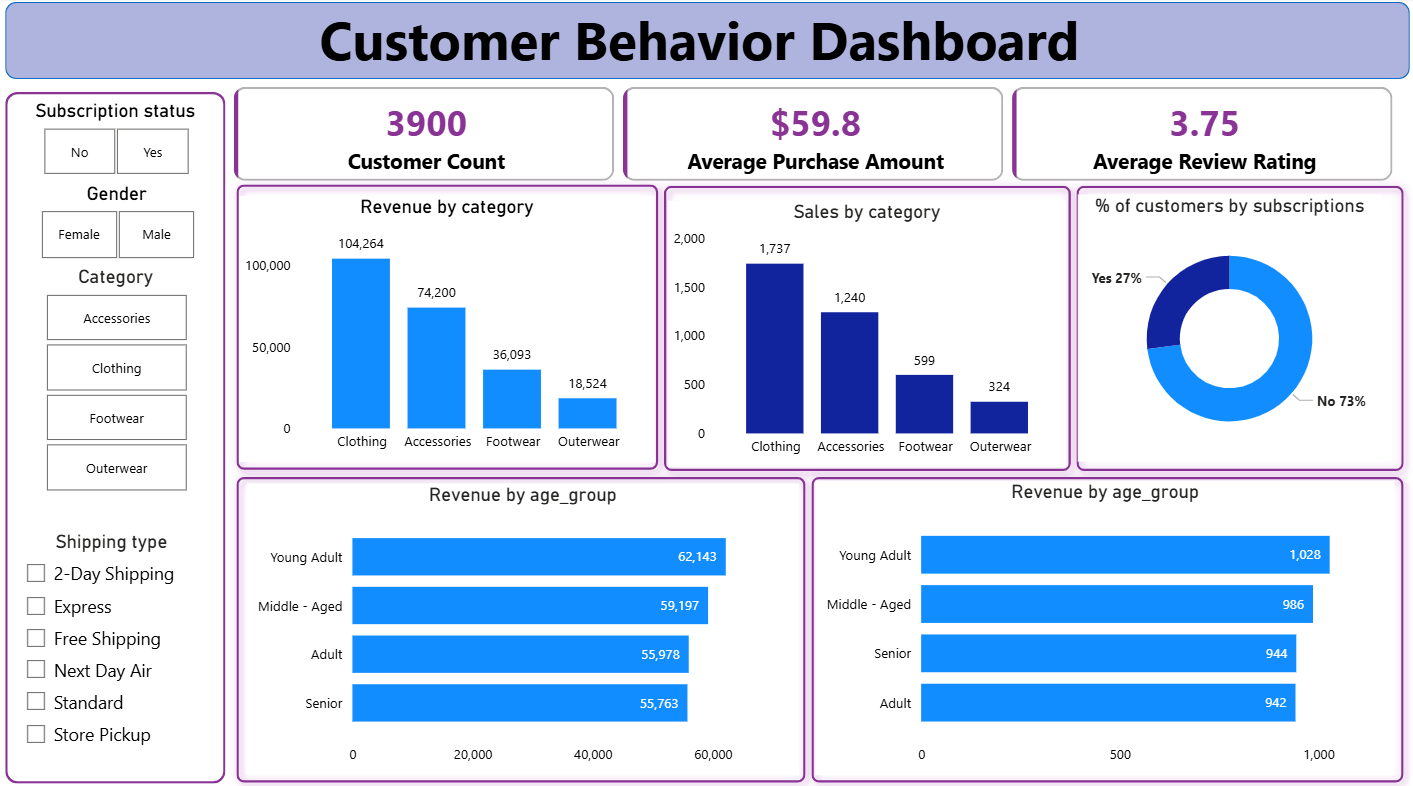

Layout of this report page (visuals, bound fields, positions):
{"tool":"powerbi","page":{"name":"Customer_Behavior_Dashboard","canvas":[1280,720],"ordinal":0},"visuals":[{"type":"cardVisual","fields":{"Data":["public customer.Customer Count","public customer.Average Purchase Amount","public customer.Average Review Rating"]},"box":[195.5,64.7,1084.8,119.7],"z":0},{"type":"shape","box":[6.1,4.9,1270.5,69.6],"z":1},{"type":"textbox","box":[6.1,0,1255.8,74.5],"z":2},{"type":"shape","box":[205.2,161,399.5,276.1],"z":3},{"type":"shape","box":[965.1,161.6,314,276.1],"z":5},{"type":"shape","box":[6.1,85.5,199.1,625.5],"z":6},{"type":"slicer","title":"Subscription status","fields":{"Values":["public customer.subscription_status"]},"box":[14.7,92.8,180.8,74.5],"z":7},{"type":"slicer","title":"Gender","fields":{"Values":["public customer.gender"]},"box":[12.2,167.4,188.1,75.7],"z":8},{"type":"slicer","title":"Category","fields":{"Values":["public customer.category"]},"box":[17.1,243.1,177.1,210.1],"z":9},{"type":"slicer","title":"Shipping type","fields":{"Values":["public customer.shipping_type"]},"box":[12.2,482.5,178.4,218.7],"z":10},{"type":"donutChart","title":"% of customers by subscriptions","fields":{"Category":["public customer.subscription_status"],"Y":["CountNonNull(public customer.customer_id)"]},"box":[976.1,178.7,274.9,241.9],"z":11},{"type":"columnChart","title":"Revenue by category","fields":{"Category":["public customer.category"],"Y":["Sum(public customer.purchase_amount)"]},"box":[217.4,179.4,376.3,240.7],"z":12},{"type":"shape","box":[592.5,161.3,386,276.1],"z":13},{"type":"columnChart","title":"Sales by category","fields":{"Category":["public customer.category"],"Y":["CountNonNull(public customer.customer_id)"]},"box":[604.7,184.5,360.4,240.7],"z":14},{"type":"shape","box":[205.2,425.1,532.6,294.4],"z":16},{"type":"shape","box":[725.6,425.1,553.4,294.4],"z":17},{"type":"barChart","title":"Revenue by age_group","fields":{"Category":["public customer.age_group"],"Y":["Sum(public customer.purchase_amount)"]},"box":[223.6,439.8,499.6,263.9],"z":18},{"type":"barChart","title":"Revenue by age_group","fields":{"Category":["public customer.age_group"],"Y":["CountNonNull(public customer.customer_id)"]},"box":[737.9,437.3,524.1,266.3],"z":19}]}

Visuals, with their boxes in screenshot pixels (x1, y1, x2, y2), scaled from the page's 1280x720 canvas onto the 1413x786 screenshot:
cardVisual - public customer.Customer Count x public customer.Average Purchase Amount: box=[216, 71, 1412, 201]
shape: box=[7, 5, 1409, 81]
textbox: box=[7, 0, 1393, 81]
shape: box=[227, 176, 668, 477]
shape: box=[1065, 176, 1412, 478]
shape: box=[7, 93, 227, 776]
"Subscription status" slicer: box=[16, 101, 216, 183]
"Gender" slicer: box=[13, 183, 221, 265]
"Category" slicer: box=[19, 265, 214, 495]
"Shipping type" slicer: box=[13, 527, 210, 765]
"% of customers by subscriptions" donutChart: box=[1078, 195, 1381, 459]
"Revenue by category" columnChart: box=[240, 196, 655, 459]
shape: box=[654, 176, 1080, 477]
"Sales by category" columnChart: box=[668, 201, 1065, 464]
shape: box=[227, 464, 814, 785]
shape: box=[801, 464, 1412, 785]
"Revenue by age_group" barChart: box=[247, 480, 798, 768]
"Revenue by age_group" barChart: box=[815, 477, 1393, 768]
